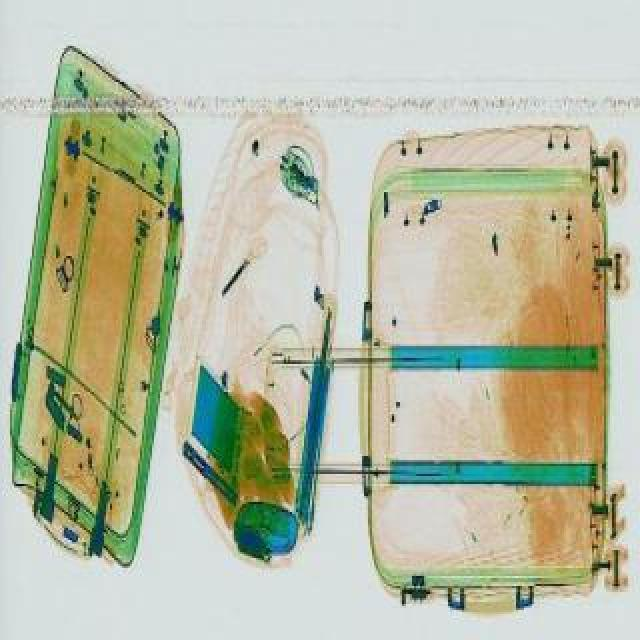pliers: (40, 378, 100, 432)
